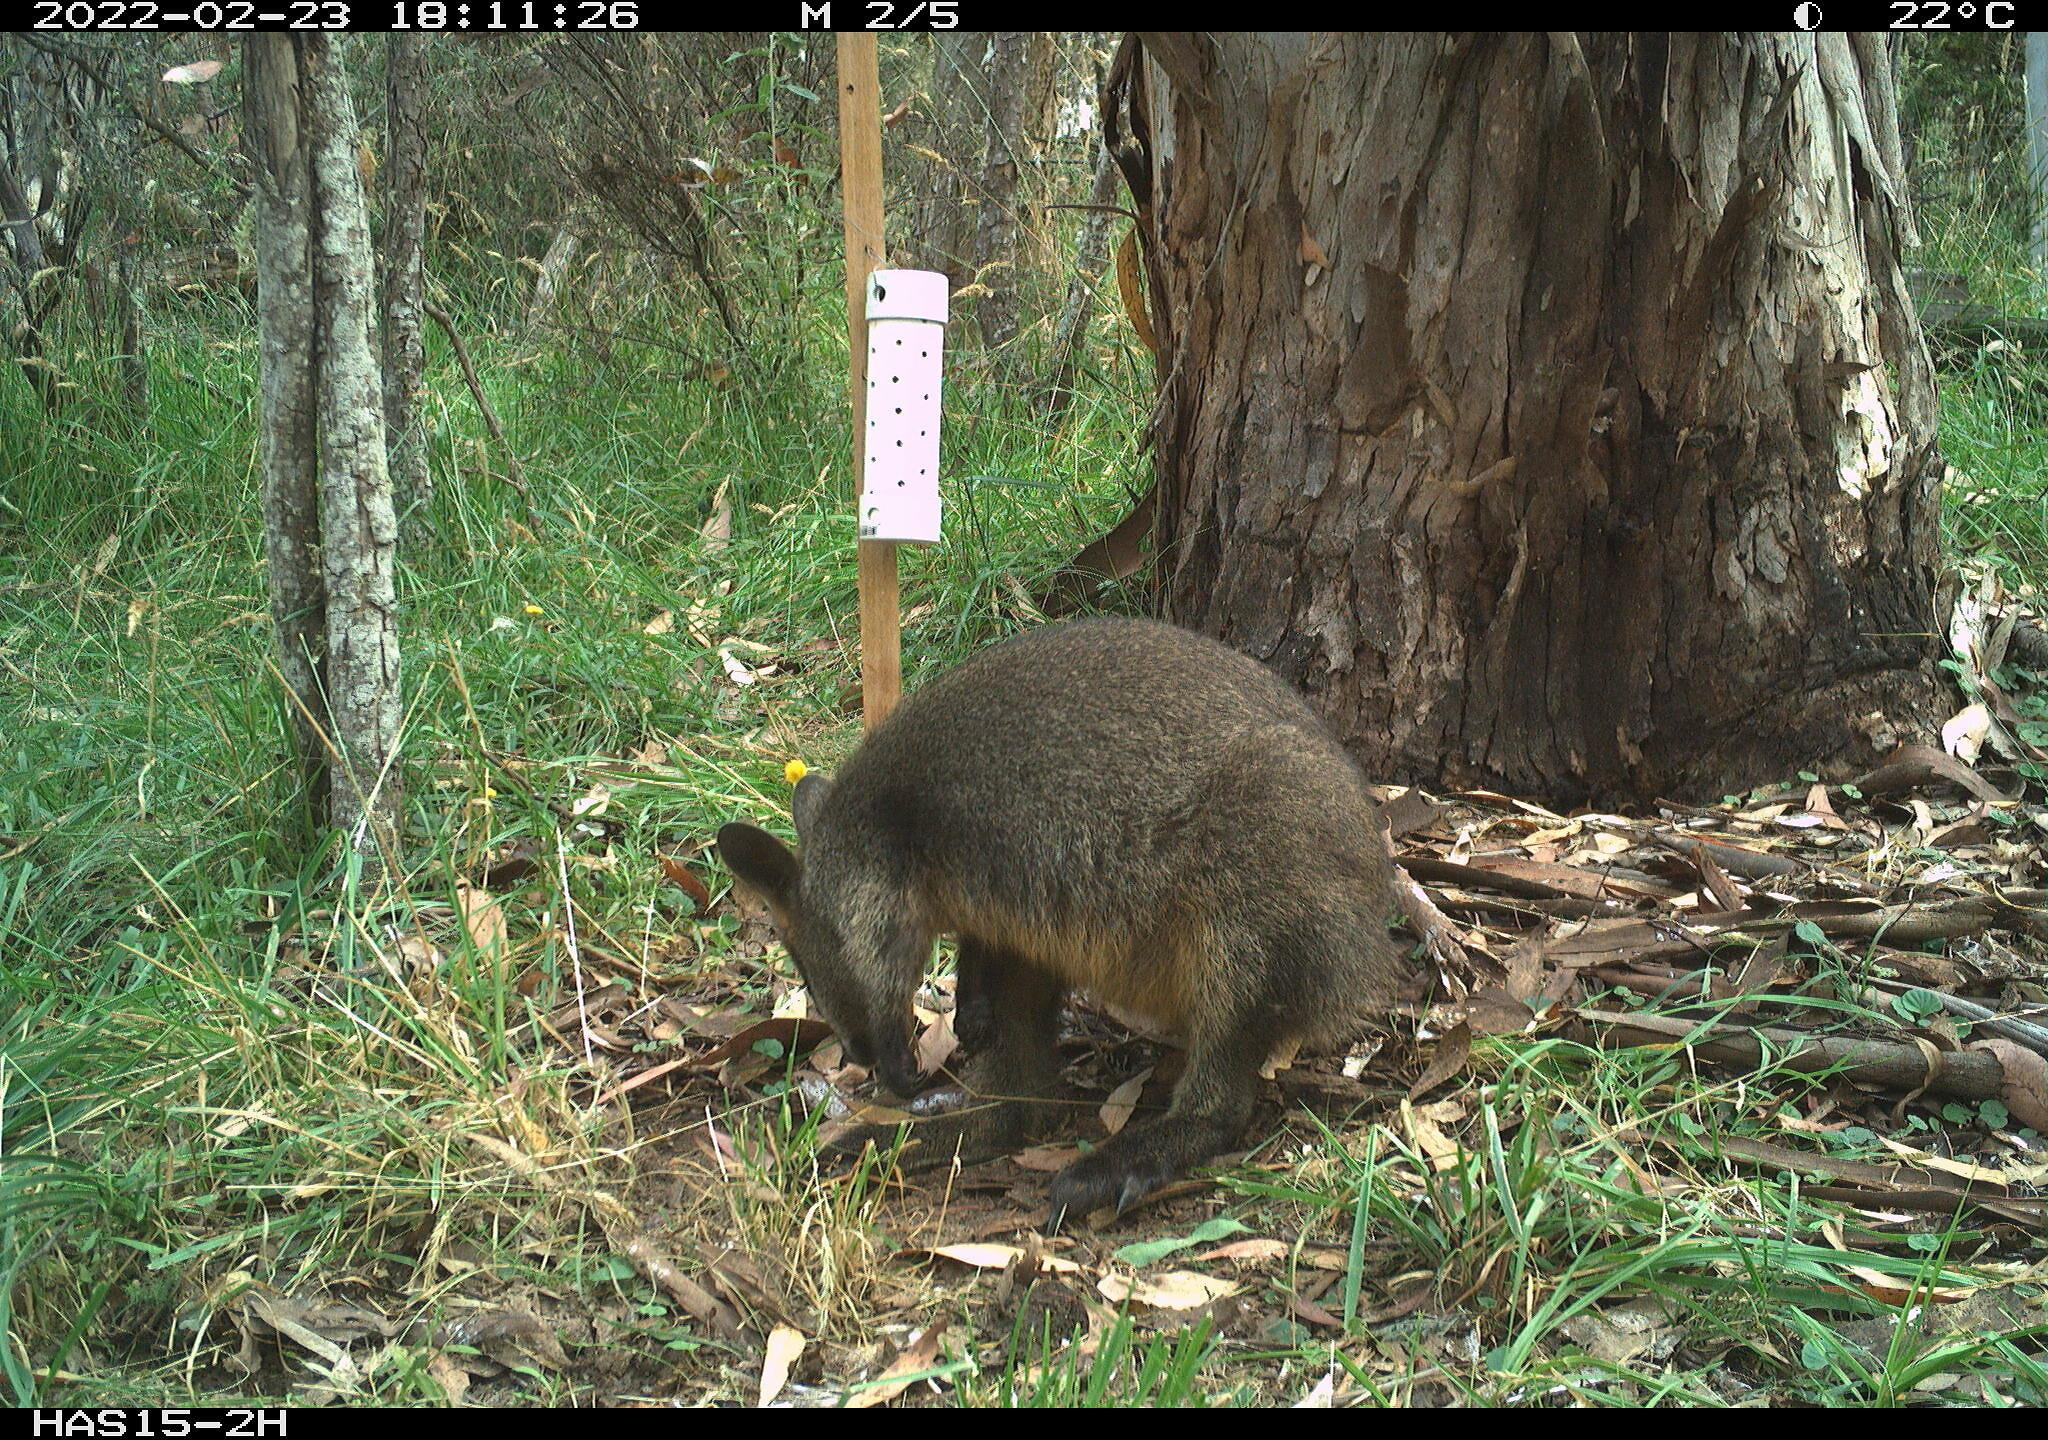Swamp wallaby: (704, 612, 1506, 1279)
